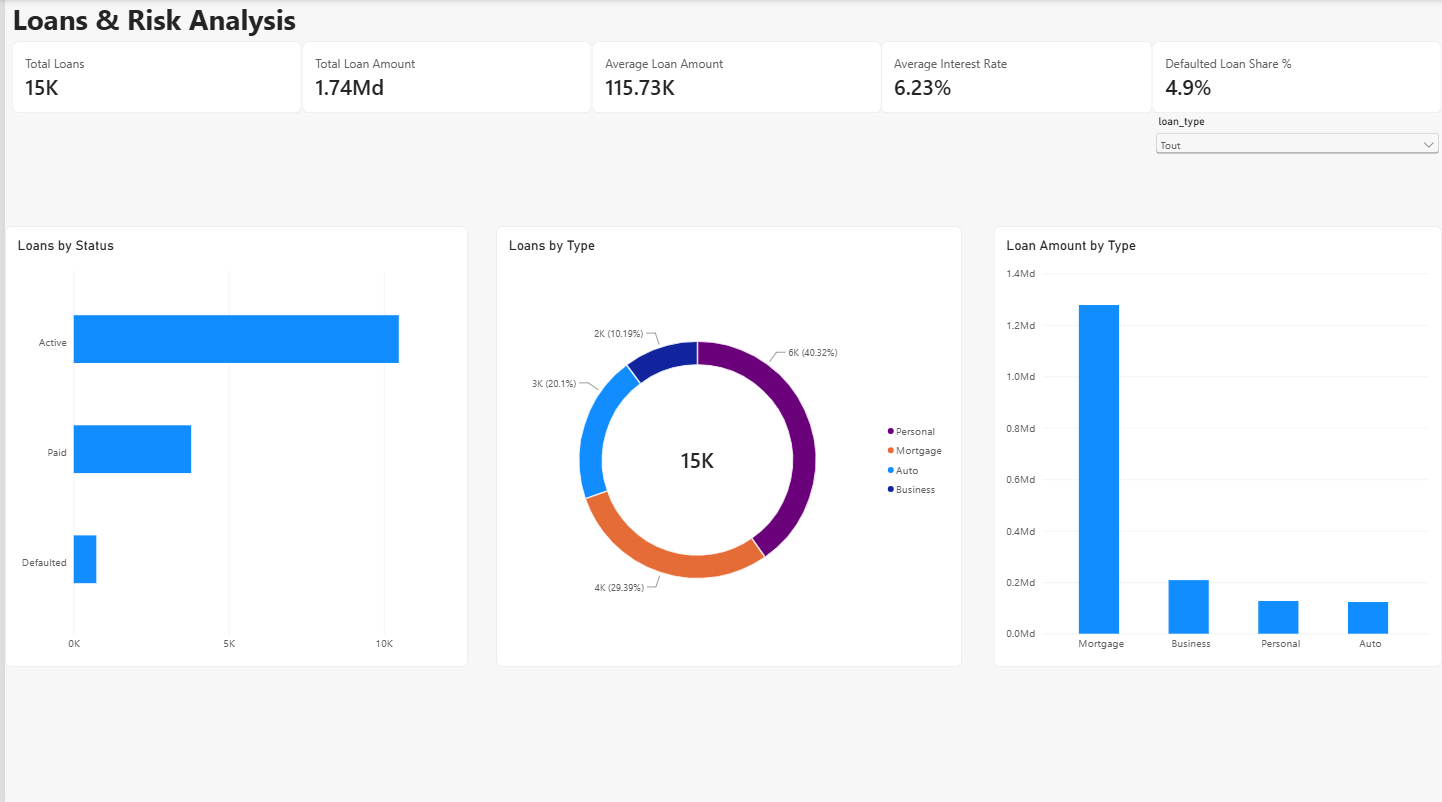

The dashboard page shown, as its layout file describes it:
{"tool":"powerbi","page":{"name":"Loans & Risk","canvas":[1920,1080],"ordinal":2},"visuals":[{"type":"textbox","box":[10.3,0,526.9,74.1],"z":0},{"type":"cardVisual","fields":{"Data":["public loans.Total Loans"]},"box":[10.3,55.6,387,96.7],"z":1},{"type":"cardVisual","fields":{"Data":["public loans.Total Loan Amount"]},"box":[397.3,55.6,387,96.7],"z":2},{"type":"cardVisual","fields":{"Data":["public loans.Average Loan Amount"]},"box":[784.2,55.6,387,96.7],"z":3},{"type":"cardVisual","fields":{"Data":["public loans.Average Interest Rate"]},"box":[1171.2,55.6,362.3,96.7],"z":4},{"type":"cardVisual","fields":{"Data":["public loans.Defaulted Loan Share %"]},"box":[1533.5,55.6,387,96.7],"z":5},{"type":"barChart","title":"Loans by Status","fields":{"Category":["public loans.loan_status"],"Y":["public loans.Total Loans"]},"box":[0,301.8,618.2,589.1],"z":6},{"type":"donutChart","title":"Loans by Type","fields":{"Category":["public loans.loan_type"],"Y":["public loans.Total Loans"]},"box":[656.4,301.8,621.8,589.1],"z":7},{"type":"clusteredColumnChart","title":"Loan Amount by Type","fields":{"Category":["public loans.loan_type"],"Y":["public loans.Total Loan Amount"]},"box":[1320,301.8,598.2,589.1],"z":8},{"type":"slicer","fields":{"Values":["public loans.loan_type"]},"box":[1533.5,154.4,387,294],"z":9}]}

Visuals, with their boxes in screenshot pixels (x1, y1, x2, y2), scaled from the page's 1920x1080 canvas onto the 1442x802 screenshot:
textbox: (x1=8, y1=0, x2=403, y2=55)
cardVisual - public loans.Total Loans: (x1=8, y1=41, x2=298, y2=113)
cardVisual - public loans.Total Loan Amount: (x1=298, y1=41, x2=589, y2=113)
cardVisual - public loans.Average Loan Amount: (x1=589, y1=41, x2=880, y2=113)
cardVisual - public loans.Average Interest Rate: (x1=880, y1=41, x2=1152, y2=113)
cardVisual - public loans.Defaulted Loan Share %: (x1=1152, y1=41, x2=1441, y2=113)
"Loans by Status" barChart: (x1=0, y1=224, x2=464, y2=662)
"Loans by Type" donutChart: (x1=493, y1=224, x2=960, y2=662)
"Loan Amount by Type" clusteredColumnChart: (x1=991, y1=224, x2=1441, y2=662)
slicer - public loans.loan_type: (x1=1152, y1=115, x2=1441, y2=333)
